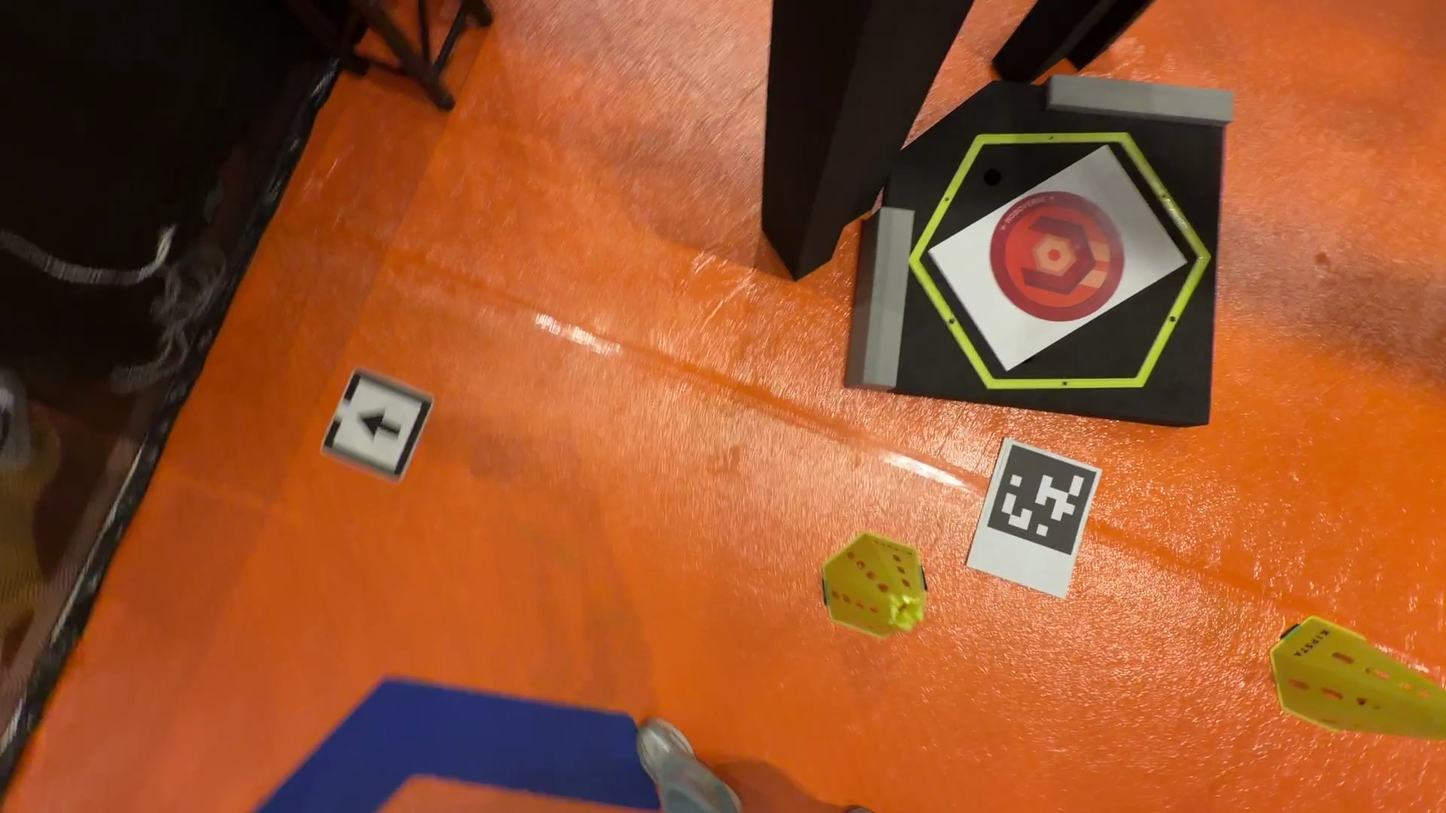landing_pad: (990, 195, 1127, 319)
